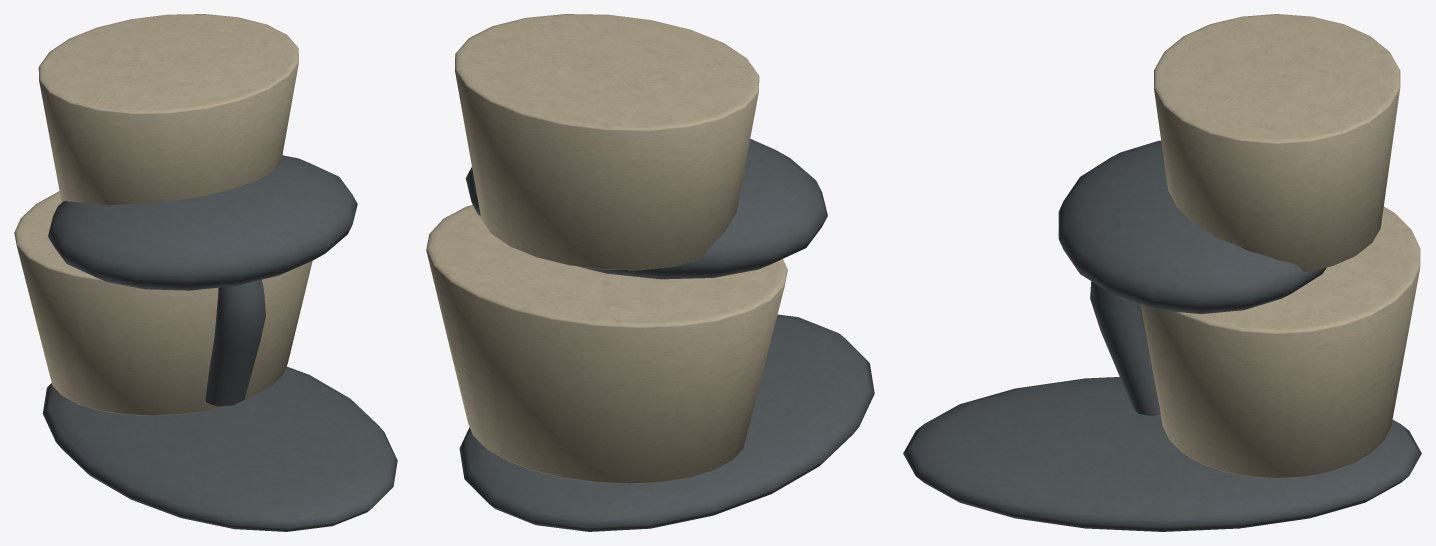
File: bone_sentry_leg.glb
3 views of the same model, side by side, from view 1: azimuth 30°, elevation 25°; view 2: azimuth 150°, elevation 25°; view 3: azimuth 270°, elevation 25° (orthographic). The views are drawn at different scales.
Visible parts, largest first — view 1: bone_sentry_leg aged bone, bone_sentry_leg ossuary dark iron; view 2: bone_sentry_leg aged bone, bone_sentry_leg ossuary dark iron; view 3: bone_sentry_leg aged bone, bone_sentry_leg ossuary dark iron.
Part boxes in pixels (x1,y1,x2,y2): bone_sentry_leg aged bone: (14,14,312,415); bone_sentry_leg ossuary dark iron: (42,155,397,531); bone_sentry_leg aged bone: (426,14,787,483); bone_sentry_leg ossuary dark iron: (459,139,874,531); bone_sentry_leg aged bone: (1140,14,1420,478); bone_sentry_leg ossuary dark iron: (903,140,1421,531).
Bounding box in the file's own units: 0.9 × 1.11 × 1.28.
Materials: 2 (2 with a texture image).
